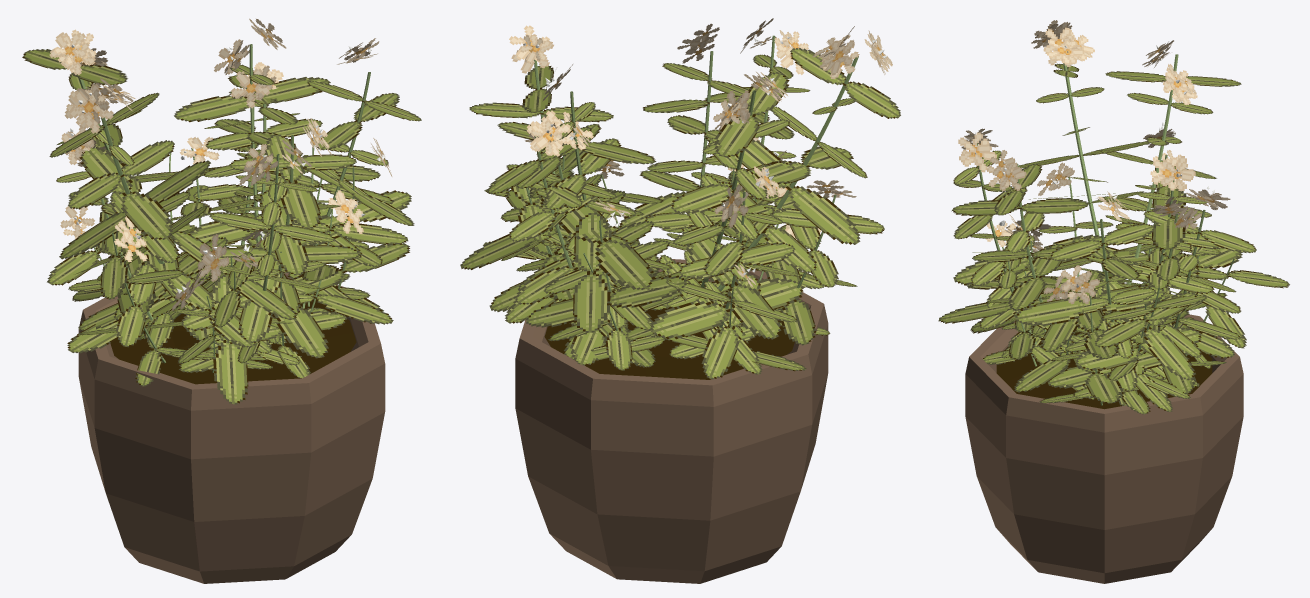
Rendered from plant_jasmine.gltf.
The picture shows the model from 3 angles, left to right: view 1: azimuth 30°, elevation 25°; view 2: azimuth 150°, elevation 25°; view 3: azimuth 270°, elevation 25°; orthographic projection. The views are drawn at different scales.
Visible parts, largest first — view 1: Pot, Soil, JasLeaf_020, JasLeaf_040, JasLeaf_019, JasLeaf_021, JasLeaf_128, JasLeaf_073, JasLeaf_100, JasLeaf_111, JasLeaf_106, JasLeaf_133 (+36 smaller); view 2: Pot, Soil, JasLeaf_052, JasLeaf_091, JasLeaf_019, JasLeaf_096, JasLeaf_090, JasLeaf_053, JasLeaf_011, JasLeaf_023, JasLeaf_102, JasLeaf_105 (+39 smaller); view 3: Pot, Soil, JasLeaf_117, JasLeaf_125, JasLeaf_065, JasLeaf_073, JasLeaf_087, JasLeaf_070, JasLeaf_040, JasLeaf_082, JasLeaf_124, JasLeaf_091 (+33 smaller).
Part boxes in pixels (left/top/right/bottom): Pot: left=78, top=273, right=385, bottom=583; Soil: left=110, top=299, right=356, bottom=384; JasLeaf_020: left=79, top=146, right=172, bottom=239; JasLeaf_040: left=174, top=77, right=330, bottom=122; JasLeaf_019: left=59, top=160, right=210, bottom=259; JasLeaf_021: left=68, top=140, right=174, bottom=209; JasLeaf_128: left=210, top=274, right=248, bottom=404; JasLeaf_073: left=265, top=135, right=321, bottom=228; JasLeaf_100: left=171, top=231, right=297, bottom=319; JasLeaf_111: left=242, top=244, right=329, bottom=358; JasLeaf_106: left=116, top=263, right=156, bottom=347; JasLeaf_133: left=167, top=273, right=255, bottom=347; Pot: left=515, top=258, right=828, bottom=583; Soil: left=544, top=281, right=794, bottom=379; JasLeaf_052: left=651, top=278, right=803, bottom=339; JasLeaf_091: left=573, top=212, right=611, bottom=332; JasLeaf_019: left=737, top=139, right=860, bottom=244; JasLeaf_096: left=559, top=206, right=654, bottom=289; JasLeaf_090: left=526, top=275, right=686, bottom=327; JasLeaf_053: left=686, top=239, right=782, bottom=339; JasLeaf_011: left=714, top=72, right=789, bottom=157; JasLeaf_023: left=790, top=48, right=900, bottom=118; JasLeaf_102: left=701, top=274, right=760, bottom=379; JasLeaf_105: left=765, top=261, right=816, bottom=345; Pot: left=965, top=314, right=1243, bottom=583; Soil: left=996, top=332, right=1212, bottom=409; JasLeaf_117: left=1015, top=284, right=1165, bottom=326; JasLeaf_125: left=1100, top=276, right=1195, bottom=380; JasLeaf_065: left=1050, top=223, right=1154, bottom=261; JasLeaf_073: left=951, top=198, right=1088, bottom=215; JasLeaf_087: left=1095, top=292, right=1196, bottom=347; JasLeaf_070: left=1008, top=244, right=1064, bottom=310; JasLeaf_040: left=1152, top=185, right=1186, bottom=249; JasLeaf_082: left=1143, top=210, right=1256, bottom=252; JasLeaf_124: left=1076, top=327, right=1201, bottom=370; JasLeaf_091: left=1180, top=267, right=1289, bottom=288.
Size of the model in its own units: 2.11 by 2.69 by 1.91.
6 materials, 4 textured.
